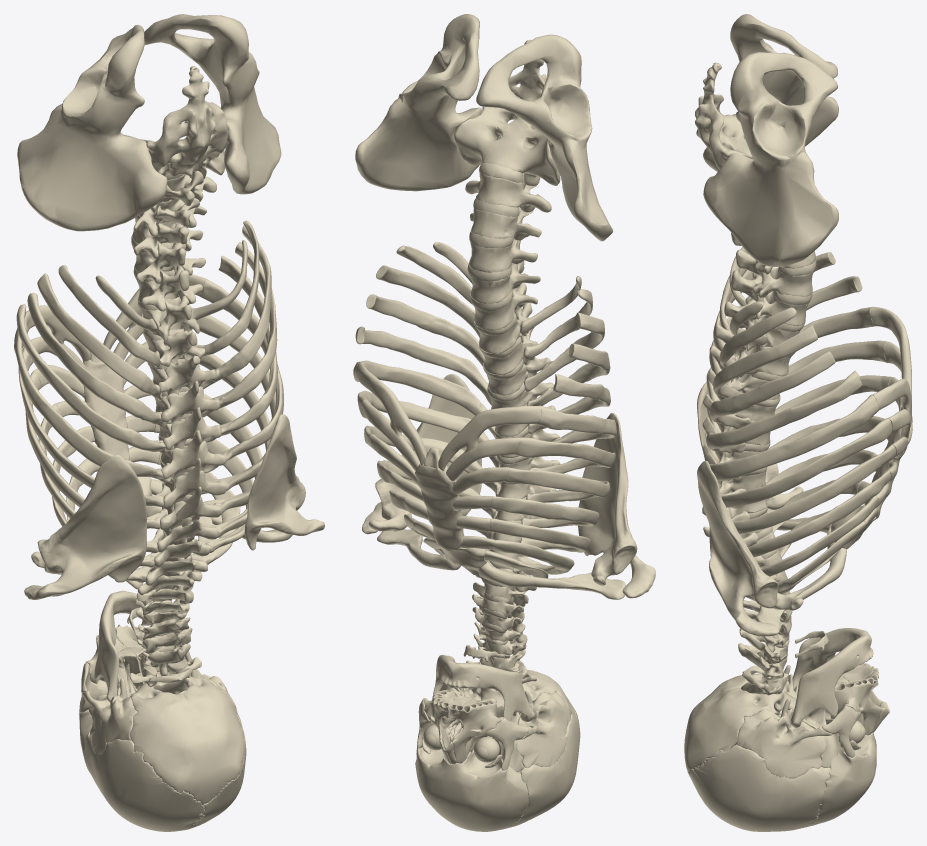
Rendered from skeleton-anatomical.glb.
The picture shows the model from 3 angles, left to right: view 1: azimuth 30°, elevation 25°; view 2: azimuth 150°, elevation 25°; view 3: azimuth 270°, elevation 25°; orthographic projection. The views are drawn at different scales.
Visible parts, largest first — view 1: right hip, occipital bone, right scapula, left hip, right parietal bone, sacrum, left scapula, right eighth rib, right ninth rib, right seventh rib, right tenth rib, mandible (+46 smaller); view 2: left hip, right hip, frontal bone, sacrum, right scapula, right temporal bone, mandible, right parietal bone, left scapula, body of sternum, right fifth rib, left eighth rib (+45 smaller); view 3: left hip, left parietal bone, left scapula, occipital bone, mandible, right hip, left temporal bone, left seventh rib, frontal bone, sacrum, left eighth rib, left sixth rib (+37 smaller).
Boxes of the visible parts, box(x1,y1,x2,y2) form: right hip: box(17, 24, 167, 231); occipital bone: box(129, 674, 244, 804); right scapula: box(24, 454, 147, 599); left hip: box(144, 14, 281, 194); right parietal bone: box(84, 731, 204, 831); sacrum: box(141, 66, 229, 179); left scapula: box(244, 414, 324, 550); right eighth rib: box(16, 304, 170, 453); right ninth rib: box(27, 293, 166, 427); right seventh rib: box(14, 325, 173, 482); right tenth rib: box(37, 273, 162, 400); mandible: box(94, 590, 199, 702); left hip: box(355, 14, 501, 191); right hip: box(476, 34, 613, 241); frontal bone: box(415, 746, 528, 831); sacrum: box(454, 39, 560, 185); right scapula: box(578, 413, 655, 598); right temporal bone: box(516, 691, 571, 767); mandible: box(432, 655, 535, 721); right parietal bone: box(500, 712, 580, 829); left scapula: box(362, 374, 481, 534); body of sternum: box(415, 463, 463, 550); right fifth rib: box(504, 467, 609, 502); left eighth rib: box(355, 326, 491, 405); left hip: box(703, 52, 838, 266); left parietal bone: box(687, 745, 830, 831); left scapula: box(697, 460, 803, 636); occipital bone: box(684, 673, 796, 772); mandible: box(790, 628, 873, 727); right hip: box(703, 14, 838, 171); left temporal bone: box(736, 698, 832, 778); left seventh rib: box(709, 394, 879, 481); frontal bone: box(811, 732, 876, 825); sacrum: box(695, 62, 753, 169); left eighth rib: box(706, 370, 862, 453); left sixth rib: box(721, 418, 892, 507).
Bounding box in the file's own units: 2.64 × 7 × 1.84.
